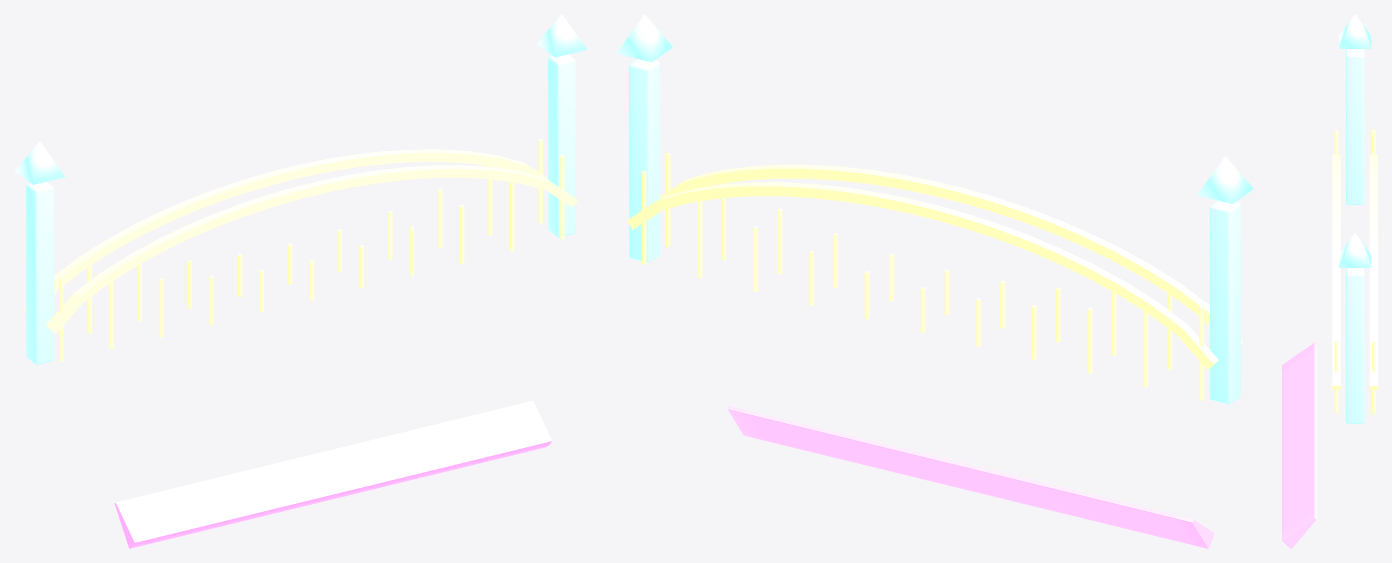
The model's file is bridge.glb.
The picture shows the model from 3 angles, left to right: view 1: azimuth 30°, elevation 25°; view 2: azimuth 150°, elevation 25°; view 3: azimuth 270°, elevation 25°; orthographic projection. The views are drawn at different scales.
Parts seen in each view (by area): view 1: Bridge_deck, Bridge_cable_-18, Bridge_cable_18, Bridge_pylon_-25, Bridge_pylon_25, Bridge_cap_25, Bridge_cap_-25; view 2: Bridge_deck, Bridge_cable_18, Bridge_cable_-18, Bridge_pylon_-25, Bridge_pylon_25, Bridge_cap_-25, Bridge_cap_25; view 3: Bridge_deck, Bridge_pylon_-25, Bridge_pylon_25, Bridge_cable_-18, Bridge_cable_18, Bridge_cap_25, Bridge_cap_-25, Bridge_hanger_10_-18, Bridge_hanger_10_18.
Boxes of the visible parts, x1,y1,x2,y2 form: Bridge_deck: (114, 400, 551, 548); Bridge_cable_-18: (46, 165, 577, 333); Bridge_cable_18: (24, 149, 547, 310); Bridge_pylon_-25: (26, 182, 53, 364); Bridge_pylon_25: (548, 54, 575, 237); Bridge_cap_25: (536, 14, 587, 57); Bridge_cap_-25: (14, 142, 65, 184); Bridge_deck: (727, 406, 1214, 548); Bridge_cable_18: (627, 182, 1218, 369); Bridge_cable_-18: (660, 164, 1242, 343); Bridge_pylon_-25: (1210, 200, 1240, 404); Bridge_pylon_25: (629, 59, 659, 262); Bridge_cap_-25: (1197, 156, 1253, 203); Bridge_cap_25: (616, 14, 672, 62); Bridge_deck: (1282, 342, 1316, 548); Bridge_pylon_-25: (1346, 49, 1364, 204); Bridge_pylon_25: (1346, 268, 1364, 423); Bridge_cable_-18: (1332, 154, 1340, 389); Bridge_cable_18: (1369, 154, 1377, 389); Bridge_cap_25: (1339, 233, 1371, 267); Bridge_cap_-25: (1339, 14, 1371, 48); Bridge_hanger_10_-18: (1334, 340, 1338, 413); Bridge_hanger_10_18: (1372, 340, 1375, 413).
Bounding box in the file's own units: 5.31 × 3.6 × 0.9261.
